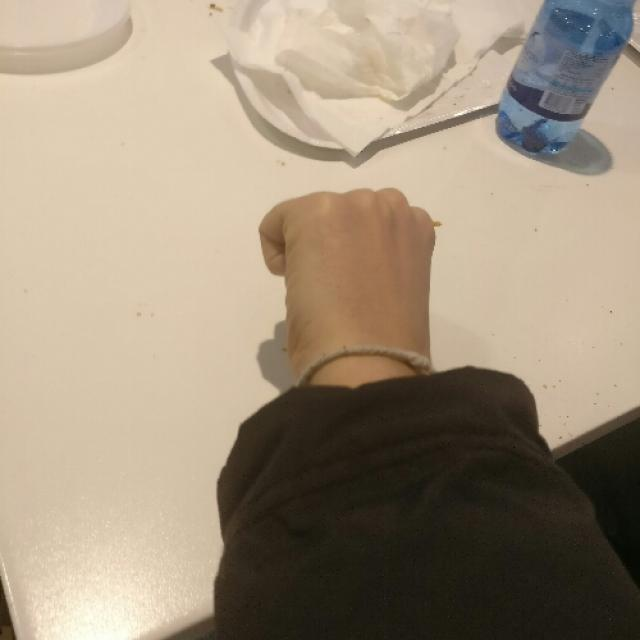rock: (256, 184, 439, 360)
